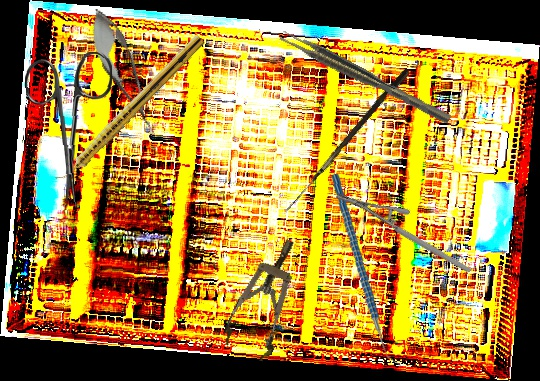Chopper: (321, 174, 412, 367)
Handpiece: (53, 31, 206, 188)
Hook Surgical: (284, 66, 411, 218)
Iris Scissors: (24, 51, 117, 210)
Micro Scissor: (79, 2, 169, 143)
Needle Holder: (335, 160, 472, 307)
Speculum: (218, 230, 316, 365)
Tissue Forceps: (277, 26, 452, 130)
